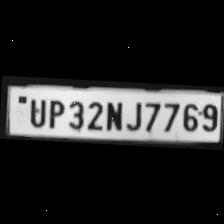2: (84, 96, 104, 130)
3: (63, 95, 85, 129)
6: (176, 98, 200, 132)
7: (140, 96, 160, 132), (158, 96, 178, 132)
9: (196, 98, 220, 132)
J: (123, 96, 143, 130)
N: (102, 96, 124, 130)
P: (43, 94, 65, 128)
U: (24, 94, 46, 126)
